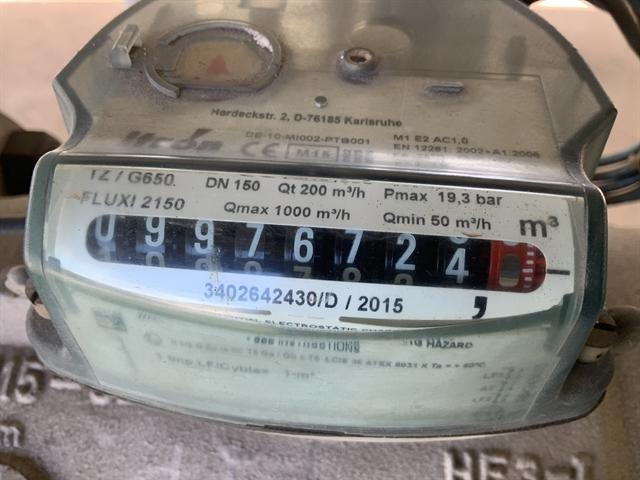analog_dial: (78, 198, 571, 313)
